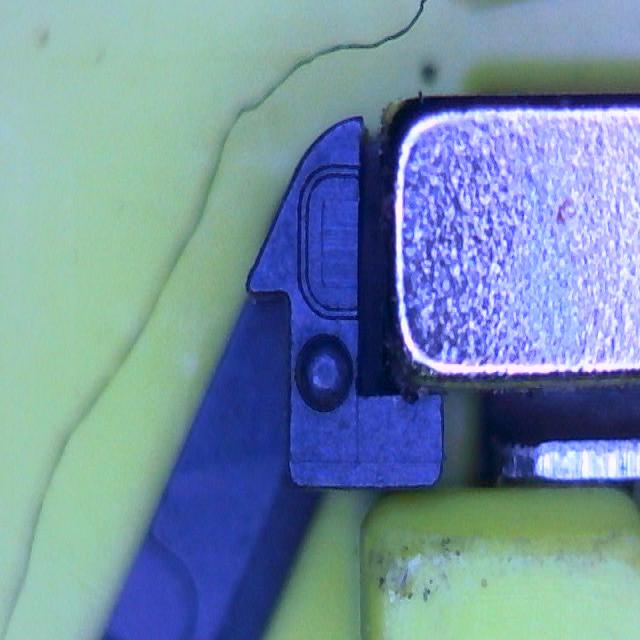noResin: (296, 161, 364, 323)
